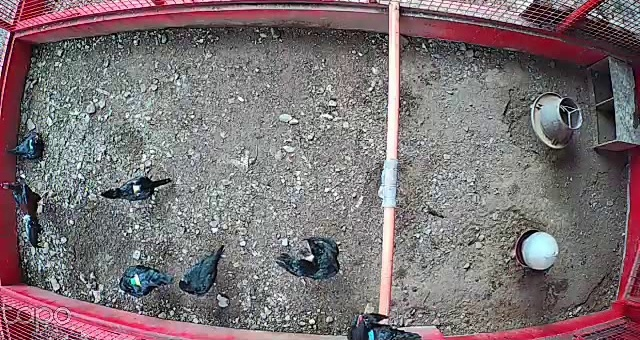Chicken: (275, 233, 346, 281), (177, 243, 232, 298), (101, 168, 173, 207), (348, 308, 423, 340), (117, 262, 177, 299), (6, 129, 55, 164)
Rooster: (0, 178, 59, 253)
Saddle_Color_Blue: (366, 328, 374, 340)
Saddle_Color_Yellow: (132, 183, 140, 195)
Saddle_Color_YellowGreen: (129, 273, 142, 289)
